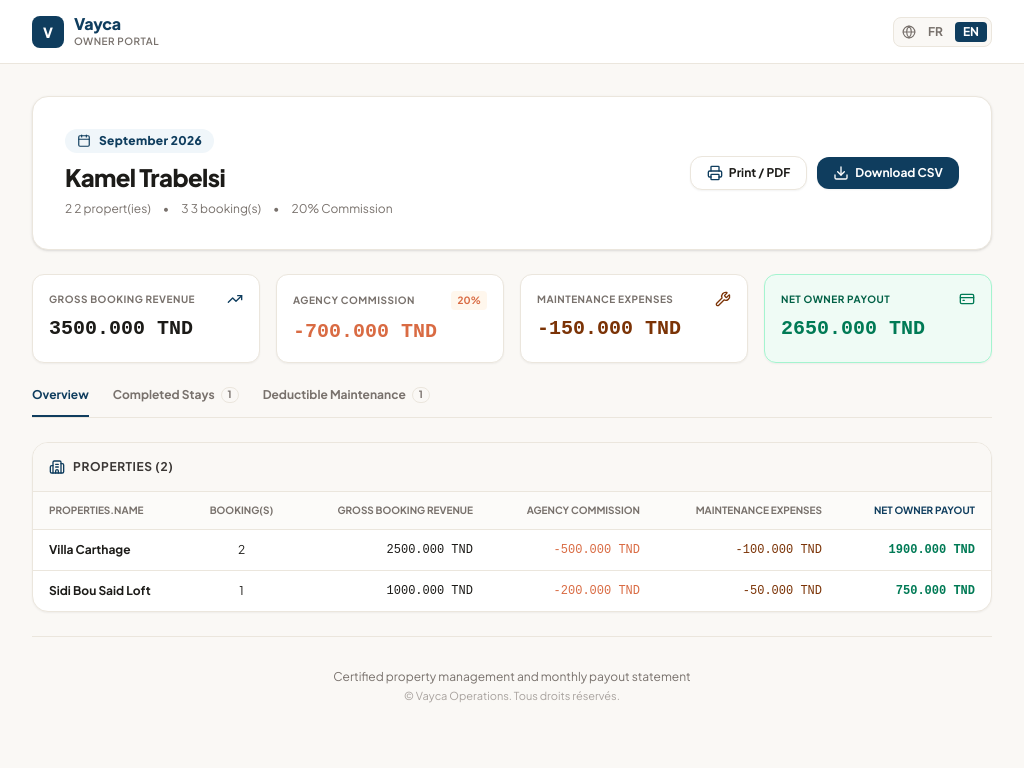
OwnerPortalPage Component › switches between Overview, Bookings, and Maintenance Tickets tabs
Expected: the heading "Kamel Trabelsi" is shown, [65,162,225,192]
Note: Bookings tab
Click the button "Completed Stays 1".
click(176, 402)  # box [113,387,239,417]
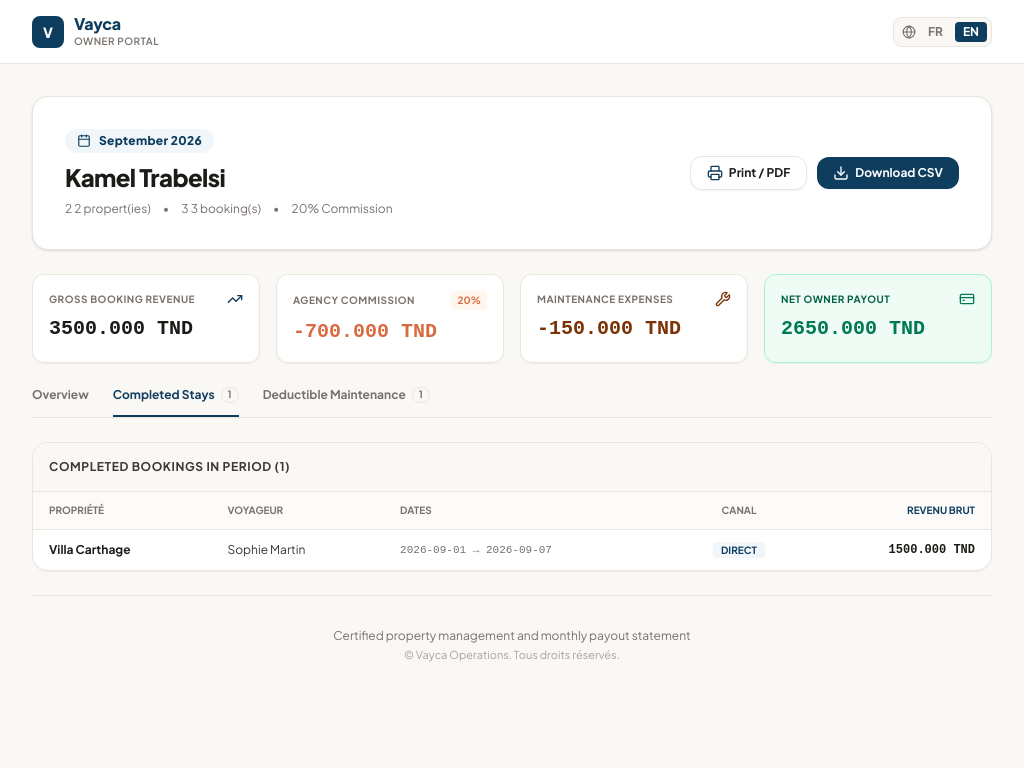
Now the text "Sophie Martin" is shown, box [211,530,384,570]
Now the text "direct" is shown, box [713,542,765,558]
Note: Tickets tab
Click the button "Deductible Maintenance 1".
click(346, 402)  # box [263,387,430,417]
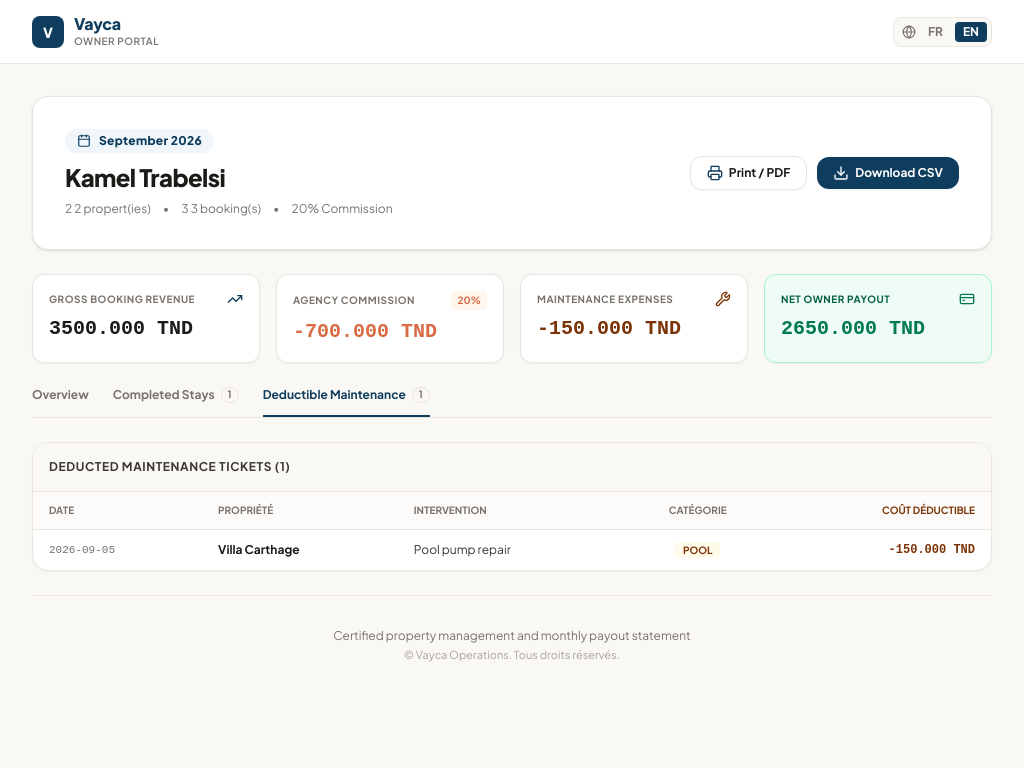
Now the text "Pool pump repair" is shown, box [398,530,620,570]
